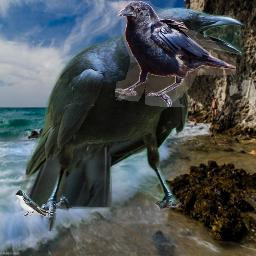Crow: (18, 7, 244, 232), (115, 1, 236, 107)
Swallow: (14, 189, 51, 217)
